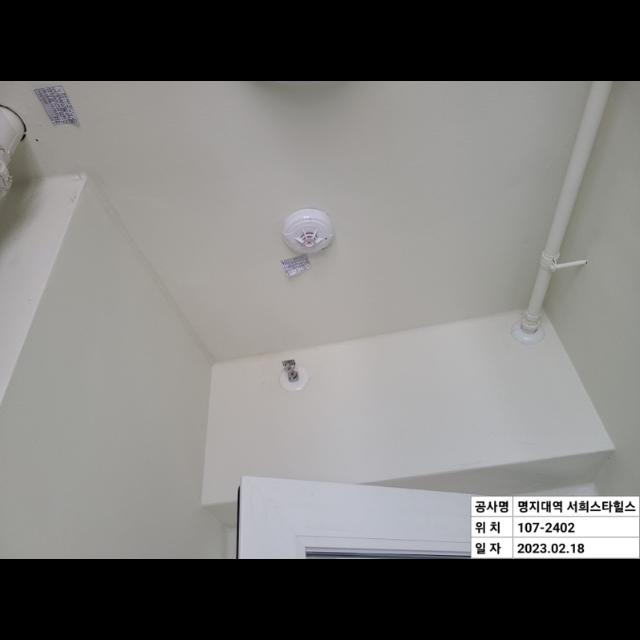Smoke-Detector: (283, 210, 333, 254)
